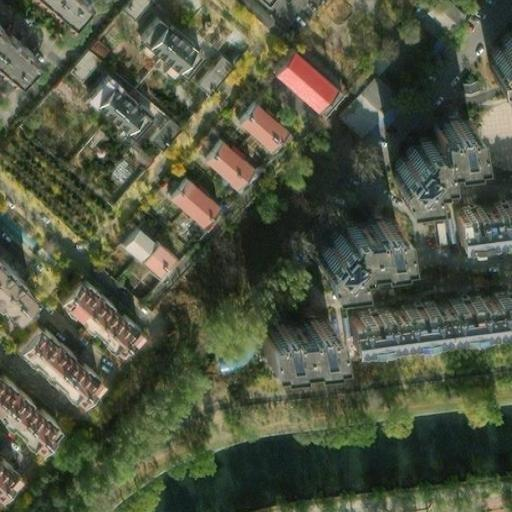building: (339, 284, 512, 345), (53, 285, 138, 364), (386, 109, 470, 187), (15, 336, 99, 414), (315, 202, 398, 280), (0, 387, 61, 463), (265, 48, 334, 115), (83, 73, 145, 132), (134, 12, 195, 71), (253, 313, 325, 360), (227, 97, 284, 152), (116, 219, 167, 275), (448, 191, 512, 235), (159, 174, 212, 225), (329, 86, 380, 136), (195, 133, 246, 182), (348, 69, 390, 114), (188, 49, 224, 87), (140, 111, 172, 144), (0, 460, 18, 507), (63, 45, 89, 73), (510, 26, 512, 42)
